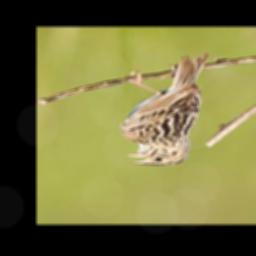Sparrow: (118, 51, 210, 167)
